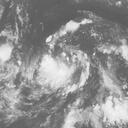cyclone: (36, 43, 90, 94)
